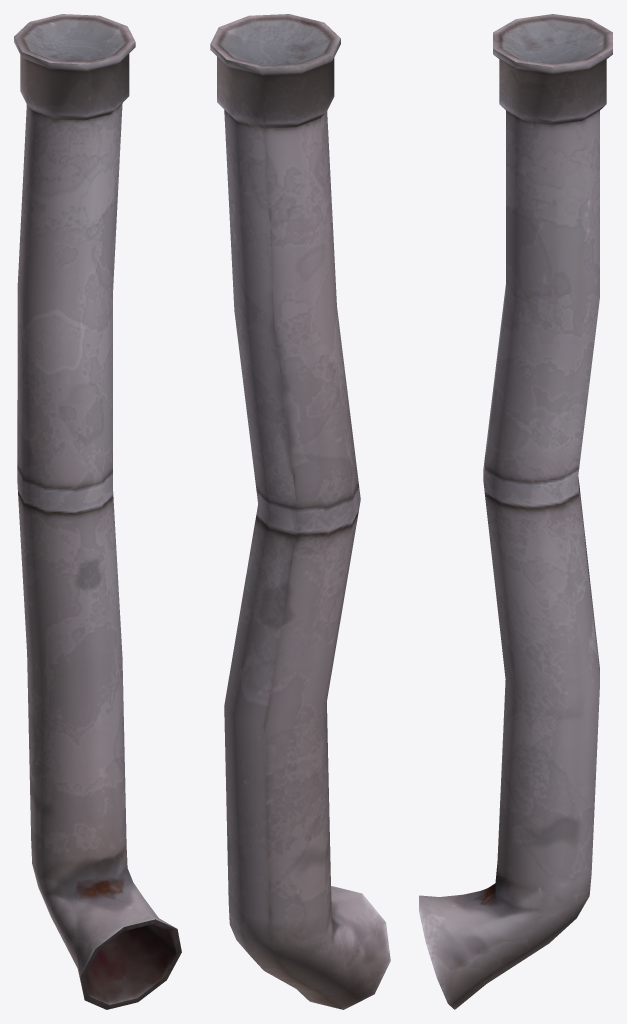
File: PropRoofDrainage01_6.FBX
3 views of the same model, side by side, from view 1: azimuth 30°, elevation 25°; view 2: azimuth 150°, elevation 25°; view 3: azimuth 270°, elevation 25° (orthographic). The views are drawn at different scales.
Parts seen in each view (by area): view 1: PropRoofDrainage01_6; view 2: PropRoofDrainage01_6; view 3: PropRoofDrainage01_6.
Boxes of the visible parts, bbox=[...] form: PropRoofDrainage01_6: bbox=[14, 14, 181, 1009]; PropRoofDrainage01_6: bbox=[210, 14, 390, 1009]; PropRoofDrainage01_6: bbox=[419, 14, 612, 1009].
Size of what is drawn, in the model's own units: 0.2216 by 1.71 by 0.3135.
